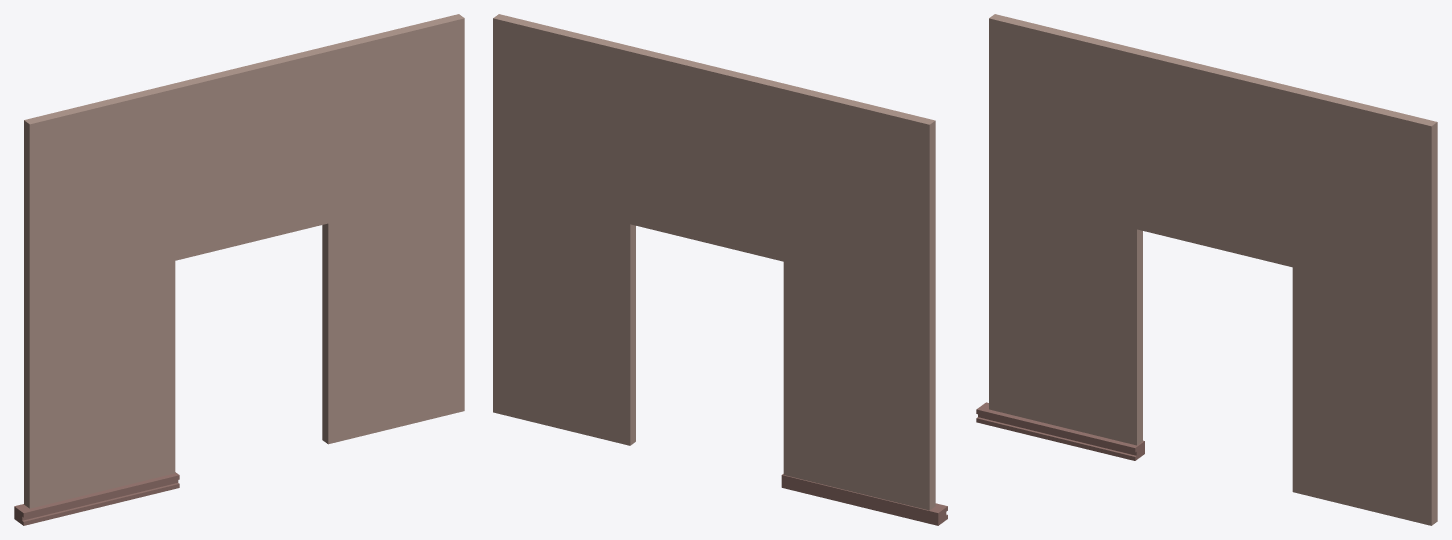
File: Environment_PlainEnteranceWall_Tan.glb
The picture shows the model from 3 angles, left to right: view 1: azimuth 30°, elevation 25°; view 2: azimuth 150°, elevation 25°; view 3: azimuth 330°, elevation 25°; orthographic projection.
Parts seen in each view (by area): view 1: Wall R, Cube.007; view 2: Wall R, Cube.007; view 3: Wall R, Cube.007.
Boxes of the visible parts, x1=… form: Wall R: x1=24, y1=14, x2=464, y2=508; Cube.007: x1=14, y1=472, x2=179, y2=525; Wall R: x1=493, y1=14, x2=935, y2=510; Cube.007: x1=781, y1=474, x2=947, y2=525; Wall R: x1=989, y1=14, x2=1437, y2=525; Cube.007: x1=976, y1=402, x2=1144, y2=460.
Size of the model in its own units: 24.88 by 21.25 by 0.9248.
